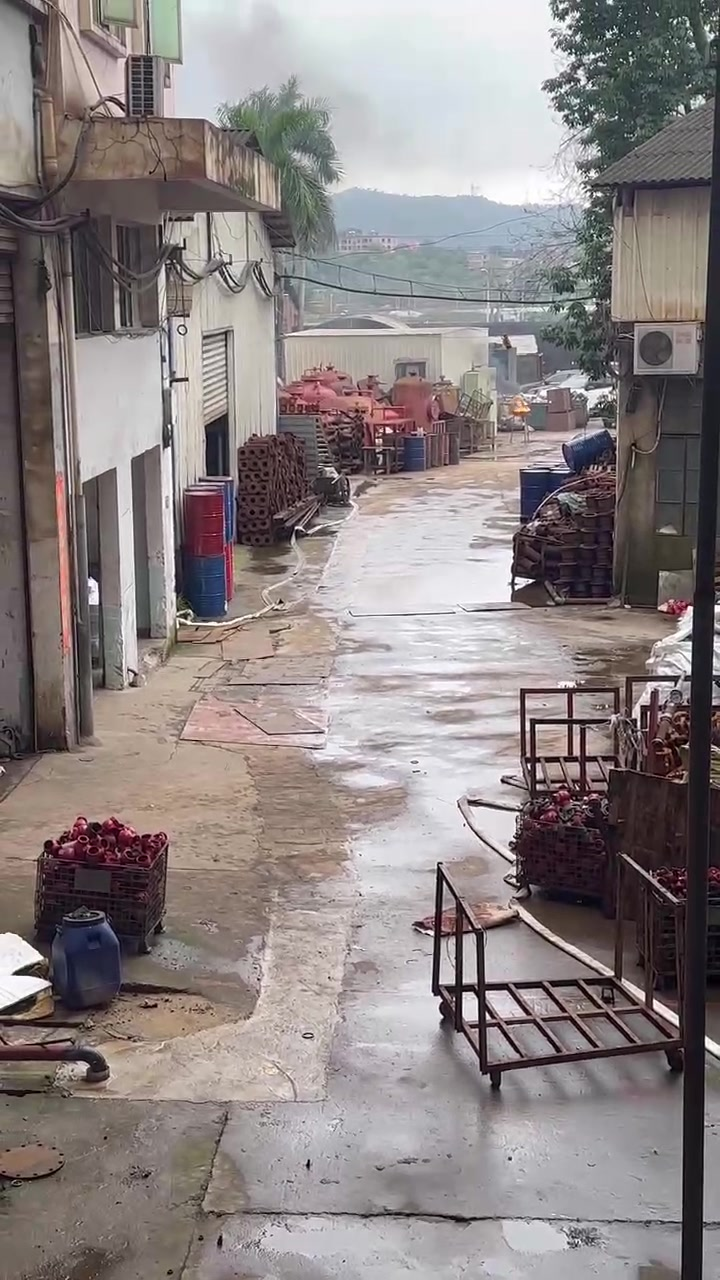fire: (512, 394, 530, 412)
